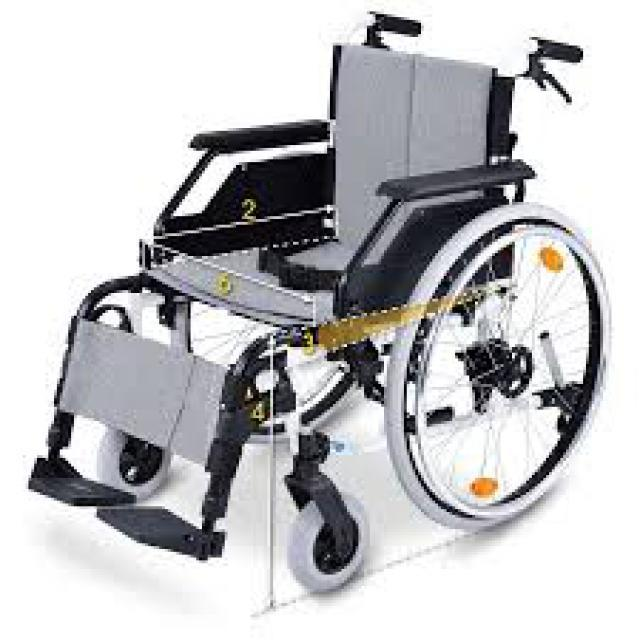wheelchair: (12, 0, 594, 623)
